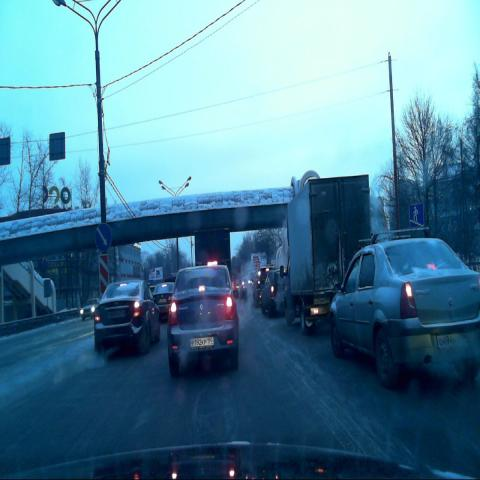6_7: (408, 203, 424, 229)
